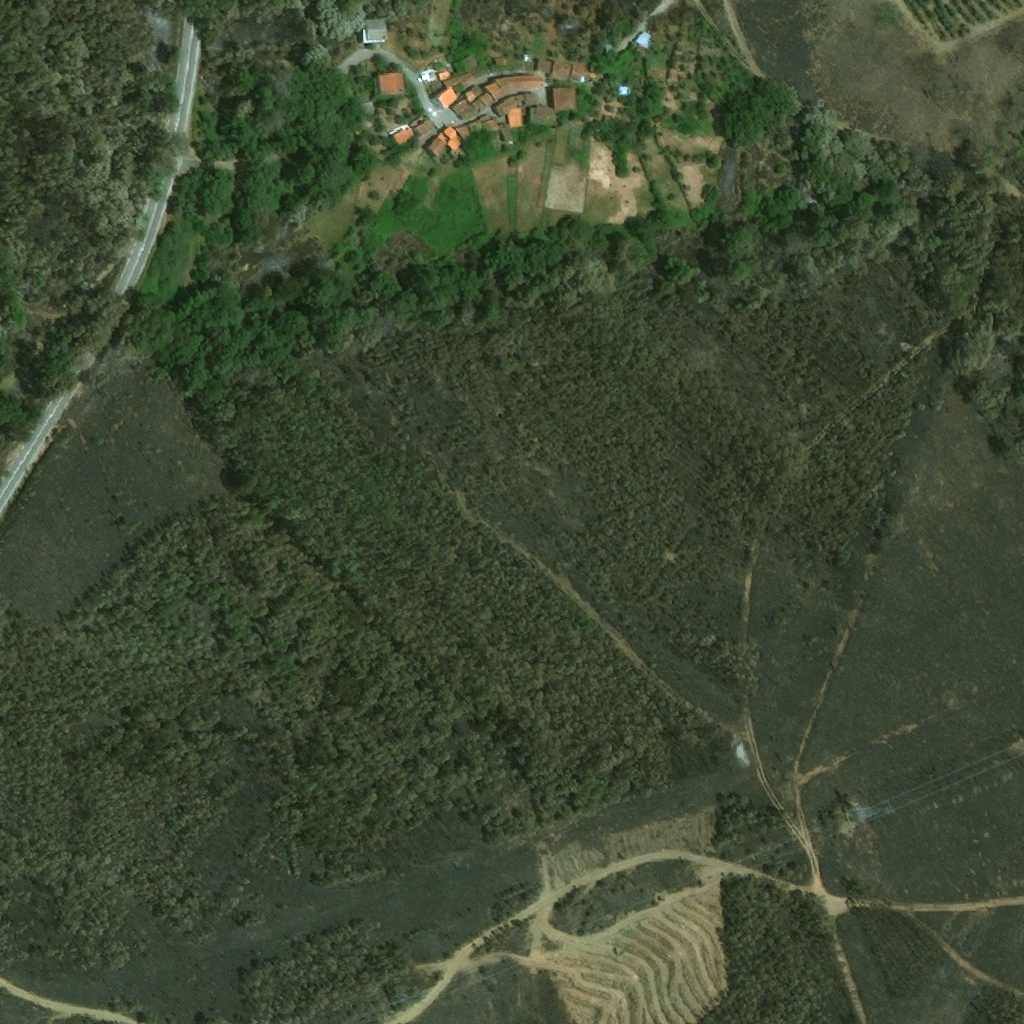0 no-damage: (493, 90, 545, 128), (484, 75, 543, 102), (451, 91, 495, 122), (442, 124, 465, 159), (467, 113, 501, 136), (423, 131, 449, 160), (569, 63, 601, 86), (548, 87, 576, 112), (377, 72, 406, 96), (360, 18, 387, 43), (389, 122, 415, 147), (442, 70, 476, 89), (528, 105, 556, 127), (390, 95, 416, 117), (453, 54, 479, 75), (436, 87, 459, 110), (411, 114, 434, 136), (463, 82, 486, 104), (549, 59, 572, 80), (533, 56, 553, 75), (378, 109, 395, 128), (491, 58, 515, 71), (633, 31, 650, 48), (455, 124, 473, 140), (436, 67, 453, 83), (501, 128, 513, 141), (521, 55, 533, 63)
4 un-classified: (430, 0, 448, 33)
